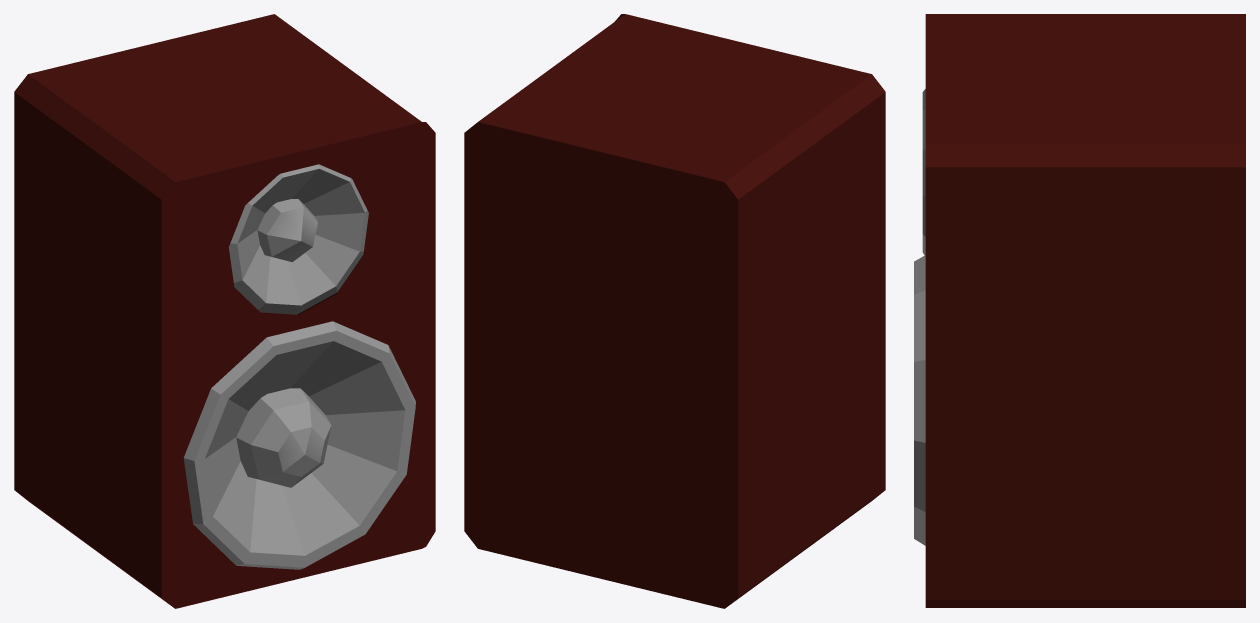
The model's file is Speaker 1.fbx.
3 views of the same model, side by side, from view 1: azimuth 30°, elevation 25°; view 2: azimuth 150°, elevation 25°; view 3: azimuth 270°, elevation 25° (orthographic). The views are drawn at different scales.
Visible parts, largest first — view 1: polySurface11.002; view 2: polySurface11.002; view 3: polySurface11.002.
Part boxes in pixels (left/top/right/bottom): polySurface11.002: left=14, top=14, right=435, bottom=608; polySurface11.002: left=464, top=14, right=885, bottom=608; polySurface11.002: left=914, top=14, right=1245, bottom=607.
Size of the model in its own units: 30.15 by 46.46 by 31.22.
